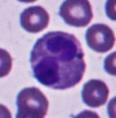E: (30, 30, 86, 90)
